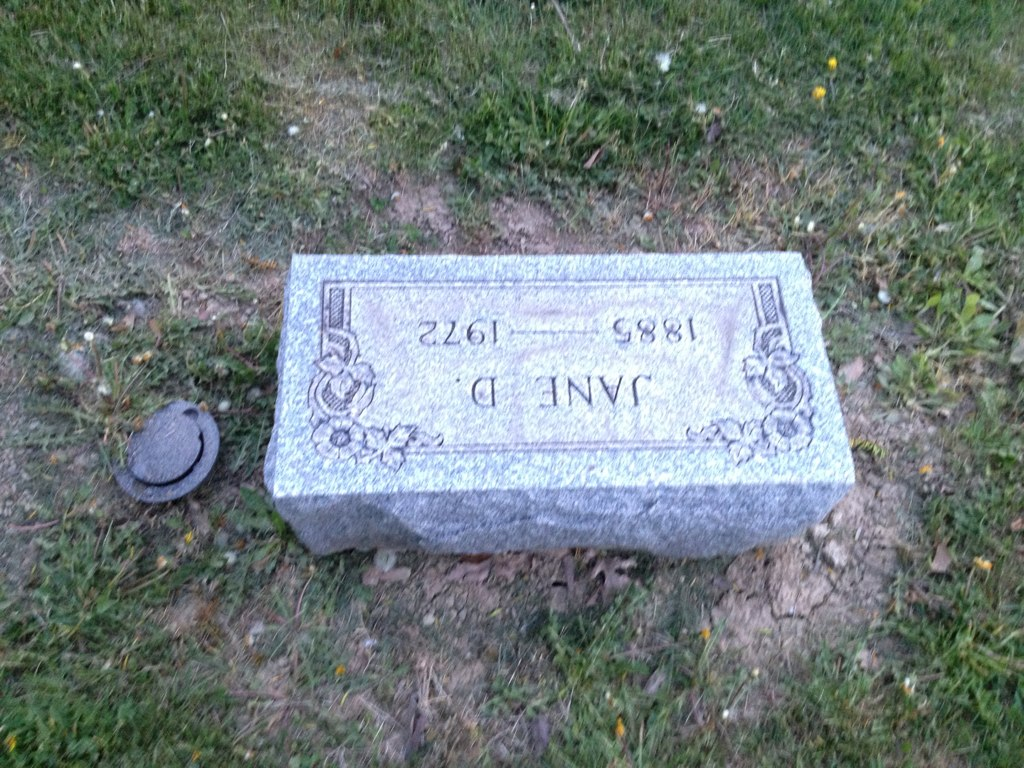flat: (266, 230, 857, 577)
